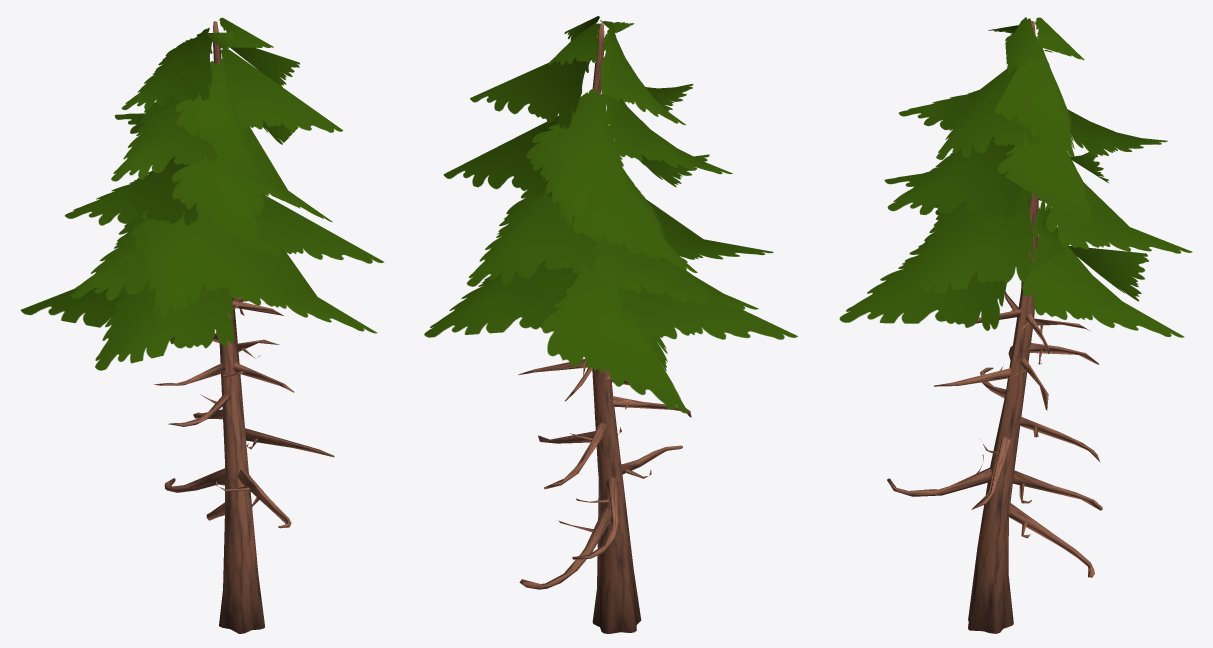
File: spruce-3.glb
3 views of the same model, side by side, from view 1: azimuth 30°, elevation 25°; view 2: azimuth 150°, elevation 25°; view 3: azimuth 270°, elevation 25° (orthographic). The views are drawn at different scales.
Visible parts, largest first — view 1: Pine_3; view 2: Pine_3; view 3: Pine_3.
Boxes of the visible parts, box(x1,y1,x2,y2) form: Pine_3: box(20, 17, 384, 633); Pine_3: box(424, 16, 797, 633); Pine_3: box(839, 17, 1192, 633).
Size of the model in its own units: 3.61 by 7.32 by 4.
2 materials, 2 textured.
